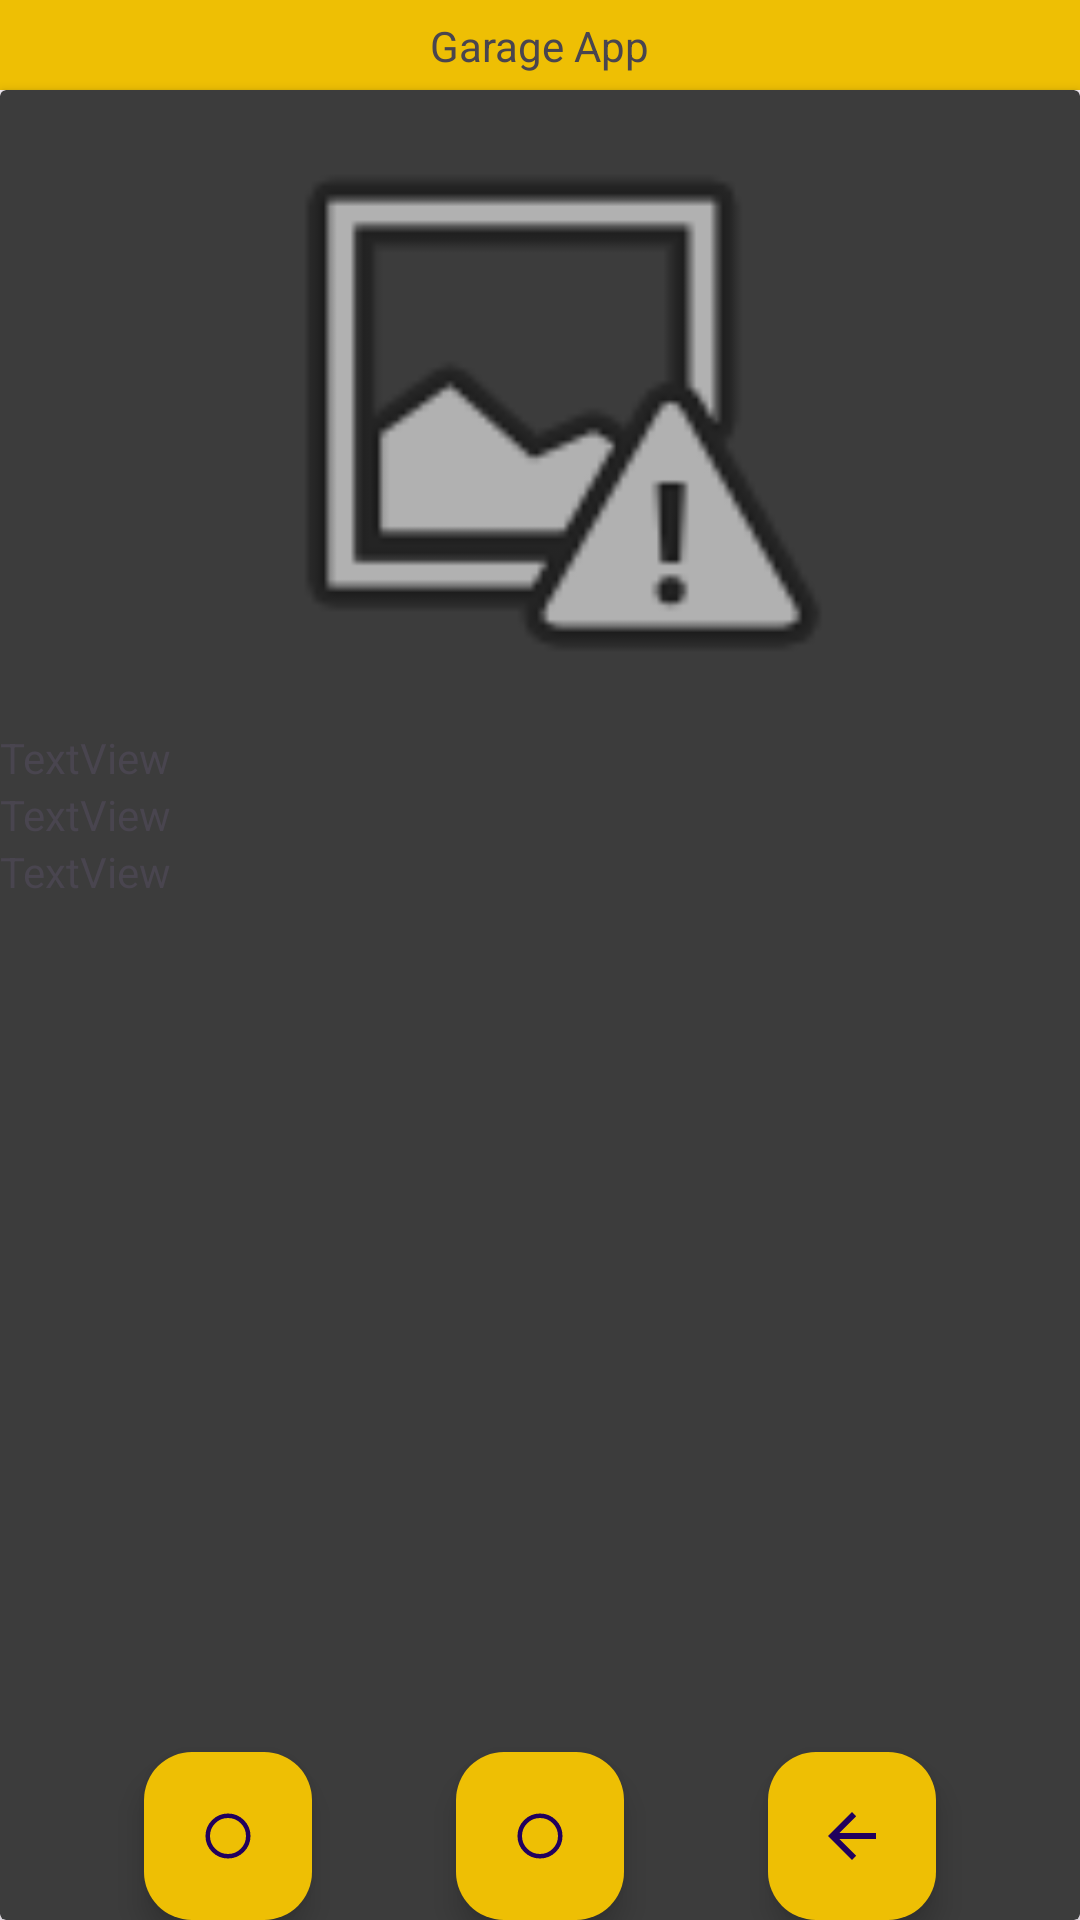

Icons on this 1080w x 1920h Android screen, each with the point to tap as (x,y):
Back Button: (852,1836)
